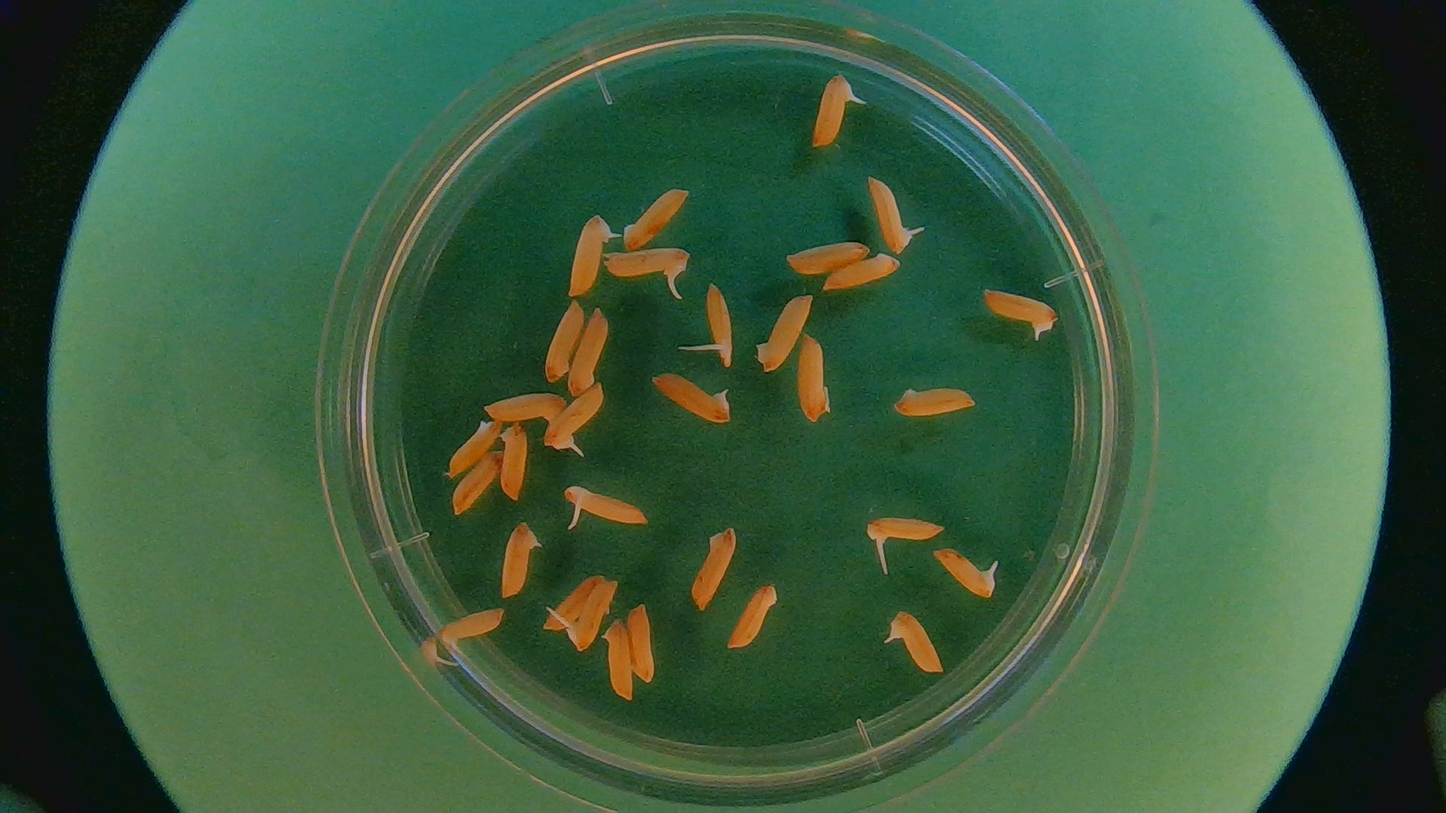no: (752, 290, 815, 373), (648, 367, 734, 425), (624, 185, 691, 254), (688, 525, 737, 612), (566, 306, 611, 396), (443, 413, 502, 480), (451, 447, 507, 516), (793, 330, 833, 423), (725, 581, 778, 651), (544, 297, 584, 385), (500, 520, 542, 601), (542, 570, 598, 630), (597, 617, 635, 702), (823, 251, 898, 291), (786, 240, 870, 275), (624, 602, 659, 685), (496, 417, 530, 502), (484, 389, 568, 422), (894, 385, 976, 418)
yes: (545, 382, 609, 461), (566, 214, 619, 297), (560, 486, 648, 531), (813, 71, 861, 151), (866, 171, 911, 256), (932, 544, 998, 598), (566, 579, 616, 650), (980, 290, 1054, 333), (891, 613, 944, 673), (602, 247, 694, 281), (703, 279, 737, 370), (864, 514, 944, 547), (443, 607, 505, 649)
